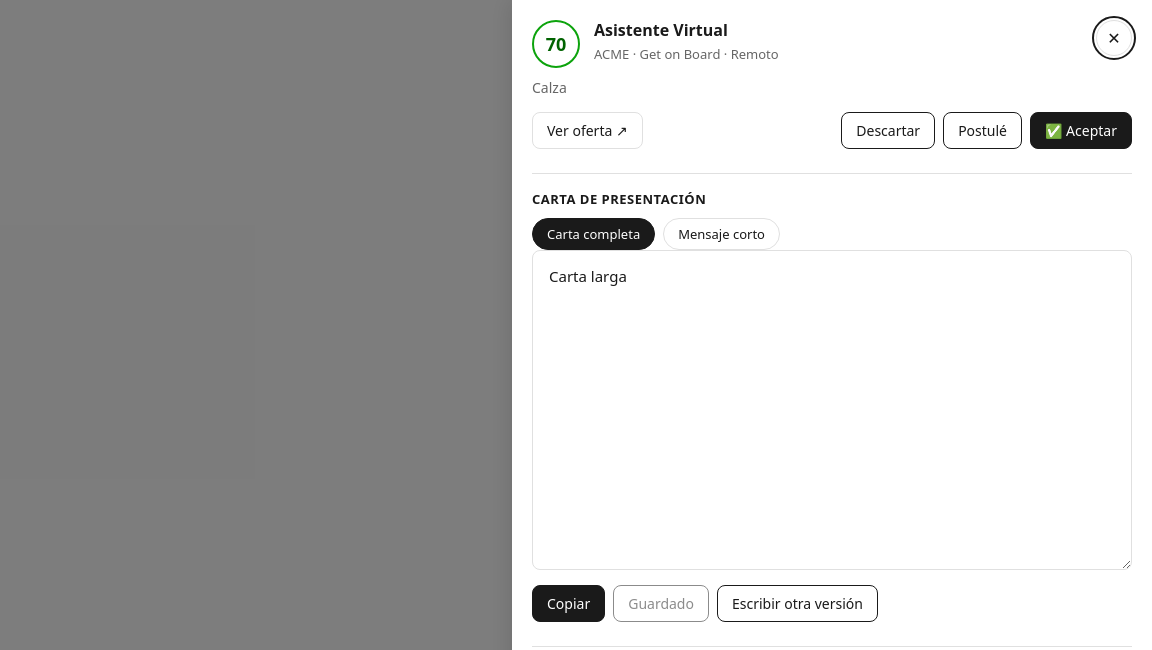
Scenario: DetalleOferta › 'Mensaje corto' muestra la versión para LinkedIn y la pide a su propia ruta
Click the button "Mensaje corto" at [722, 234], box [663,218,780,250]
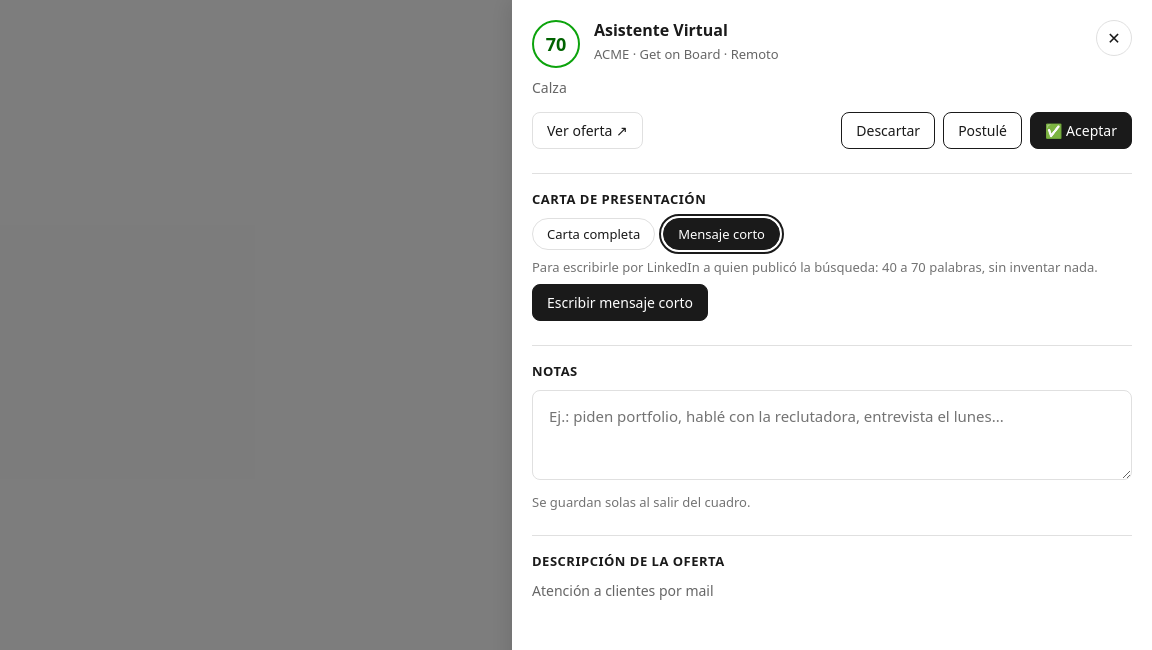
Now the button "Mensaje corto" is pressed, box [663,218,780,250]
Click the button "Escribir mensaje corto" at [620, 303], box [532,284,708,321]
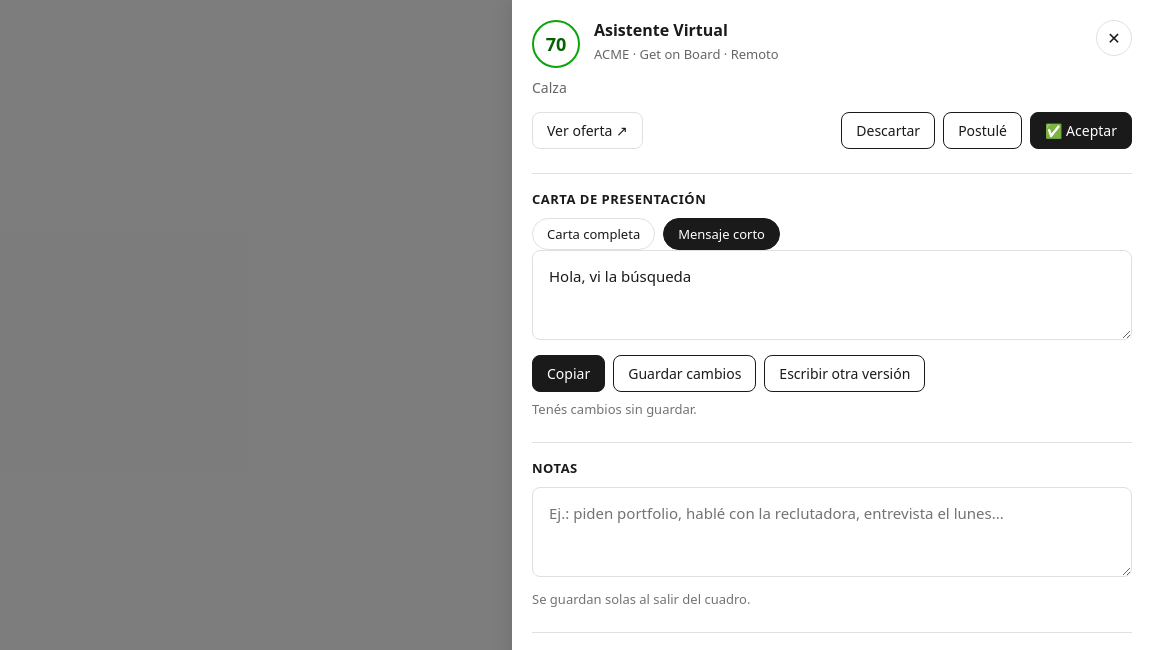
Now the text box named "Mensaje corto para el reclutador" holds "Hola, vi la búsqueda", box [532,250,1132,340]
// La carta completa sigue ahí al volver.
Click the button "Carta completa" at [594, 234], box [532,218,655,250]
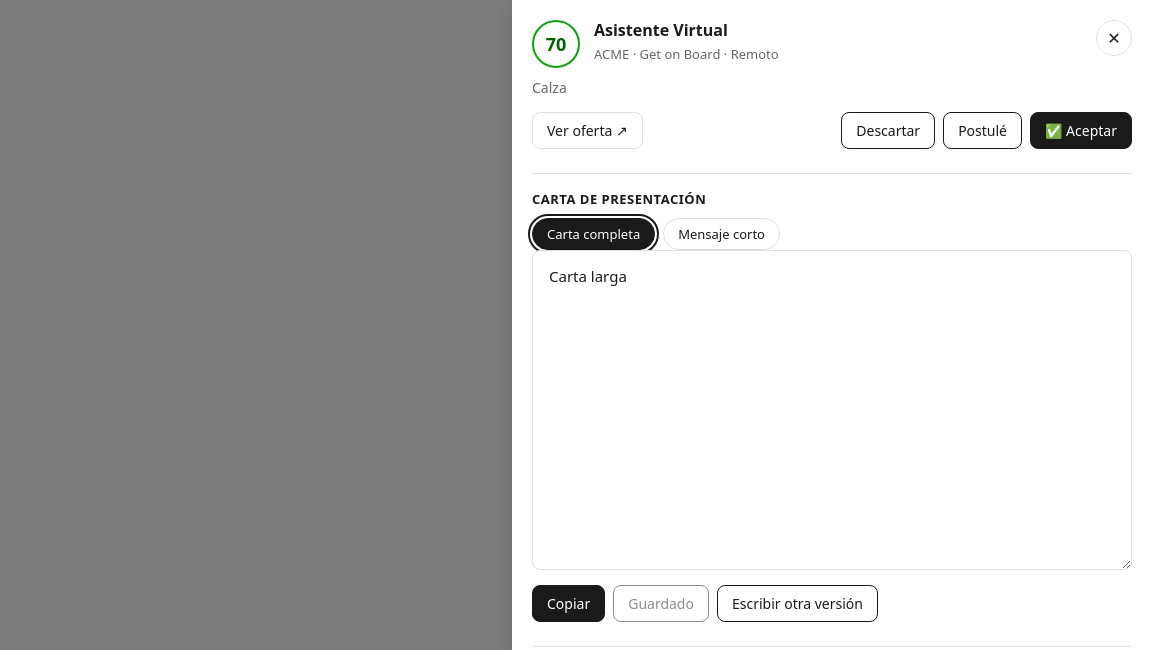
Now the text box named "Carta de presentación" holds "Carta larga", box [532,250,1132,570]
